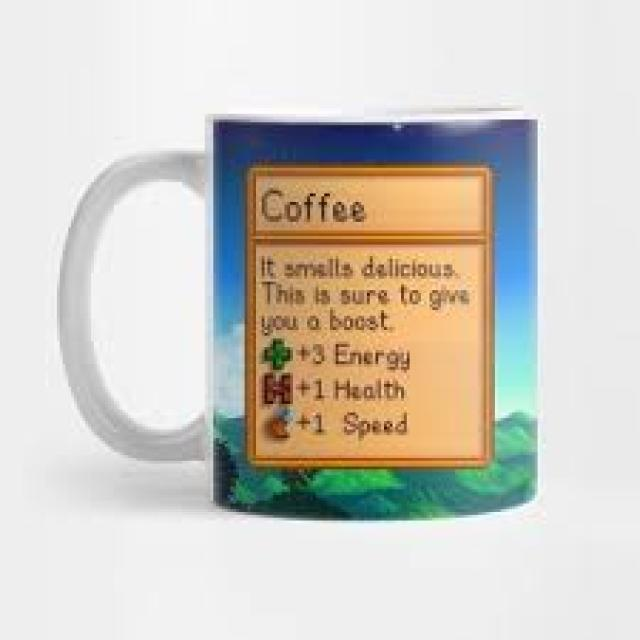taza: (56, 110, 542, 526)
